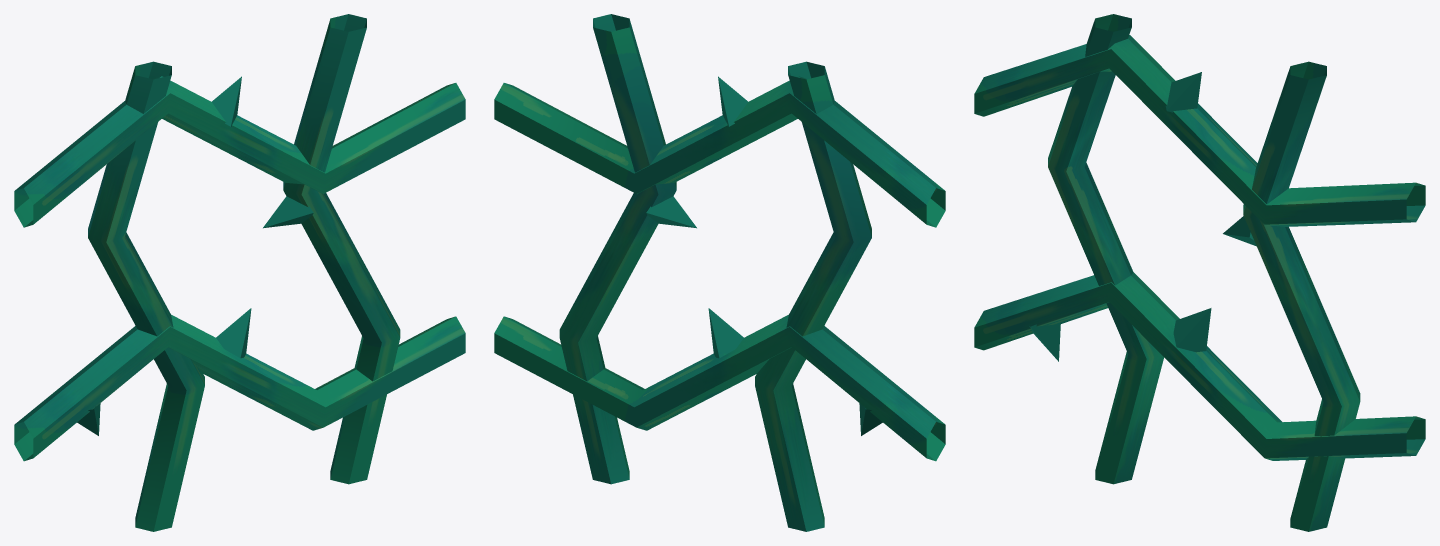
Rendered from needle_obj.fbx.
3 views of the same model, side by side, from view 1: azimuth 30°, elevation 25°; view 2: azimuth 150°, elevation 25°; view 3: azimuth 330°, elevation 25° (orthographic).
Parts seen in each view (by area): view 1: needle_mdl; view 2: needle_mdl; view 3: needle_mdl.
Part boxes in pixels (left/top/right/bottom): needle_mdl: left=14, top=14, right=465, bottom=531; needle_mdl: left=494, top=14, right=945, bottom=531; needle_mdl: left=974, top=14, right=1425, bottom=531.
Size of the model in its own units: 10 by 10 by 0.963.
Materials: 1 (1 with a texture image).
